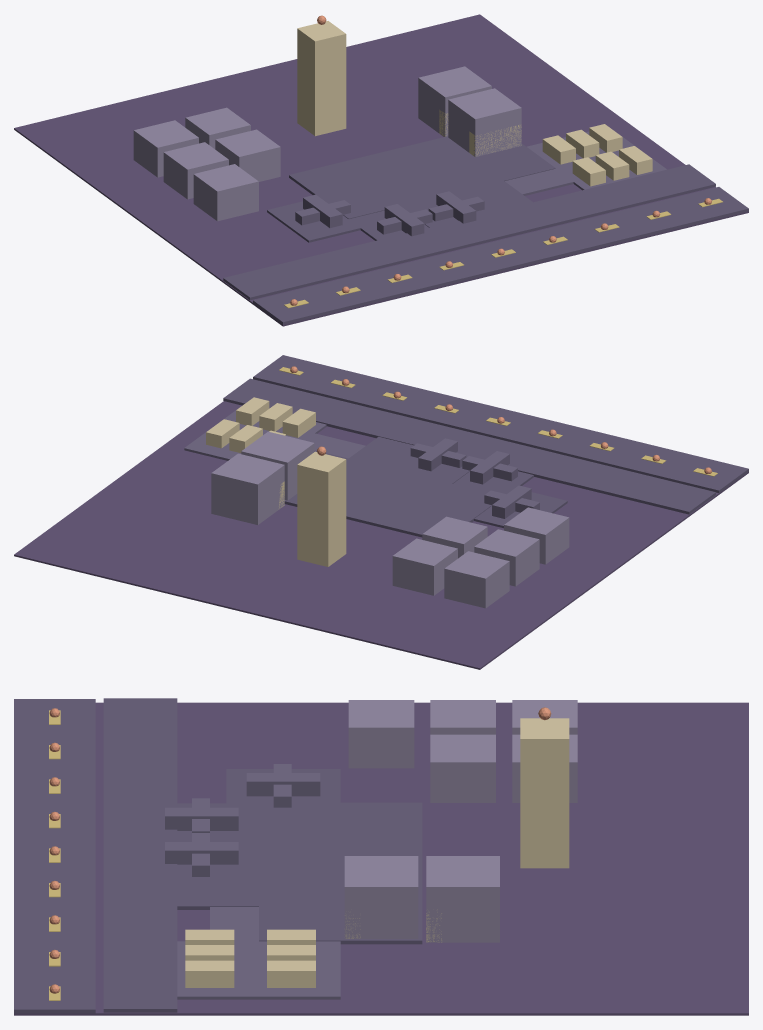
The model's file is stage_19.glb.
3 renders of one model, top to bottom at view 1: azimuth 30°, elevation 25°; view 2: azimuth 150°, elevation 25°; view 3: azimuth 270°, elevation 25°, orthographic. The views are drawn at different scales.
Visible parts, largest first — view 1: geometry_0; view 2: geometry_0; view 3: geometry_0.
Part boxes in pixels (left/top/right/bottom): geometry_0: left=14, top=14, right=748, bottom=326; geometry_0: left=14, top=355, right=748, bottom=669; geometry_0: left=14, top=698, right=748, bottom=1015.
Size of the model in its own units: 9 by 2.06 by 9.
